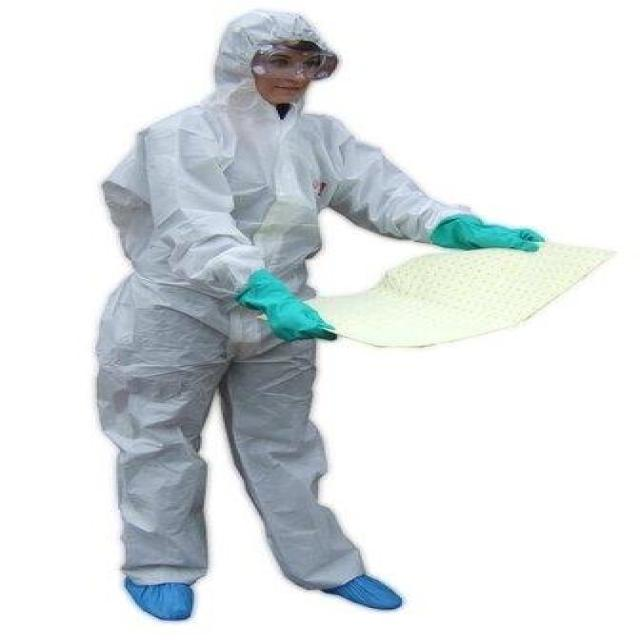Coverall: (78, 8, 547, 621)
Gloves: (236, 269, 339, 348), (430, 212, 543, 254)
Goggles: (253, 43, 347, 89)
